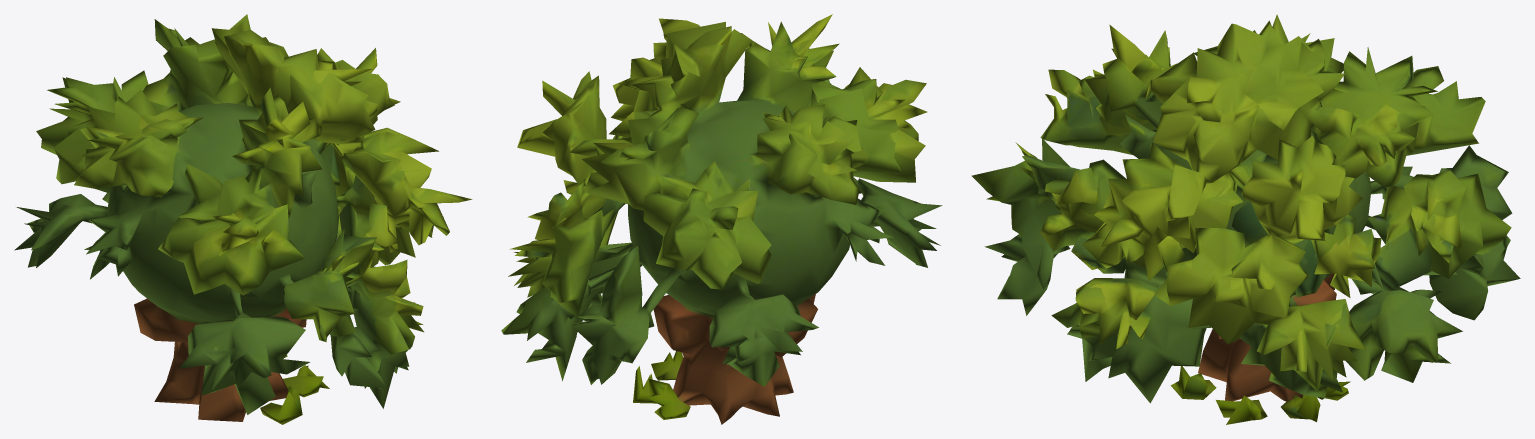
Rendered from bush.glb.
3 views of the same model, side by side, from view 1: azimuth 30°, elevation 25°; view 2: azimuth 150°, elevation 25°; view 3: azimuth 270°, elevation 25° (orthographic). The views are drawn at different scales.
Visible parts, largest first — view 1: tripo_node_9a75ba61-06df-4d93-a56d-099559ae5623; view 2: tripo_node_9a75ba61-06df-4d93-a56d-099559ae5623; view 3: tripo_node_9a75ba61-06df-4d93-a56d-099559ae5623.
Part boxes in pixels (<box>): tripo_node_9a75ba61-06df-4d93-a56d-099559ae5623: <box>14,14,472,424</box>; tripo_node_9a75ba61-06df-4d93-a56d-099559ae5623: <box>501,14,942,424</box>; tripo_node_9a75ba61-06df-4d93-a56d-099559ae5623: <box>971,14,1520,424</box>.
Size of the model in its own units: 0.7418 by 0.7436 by 1.
1 material, 1 textured.
